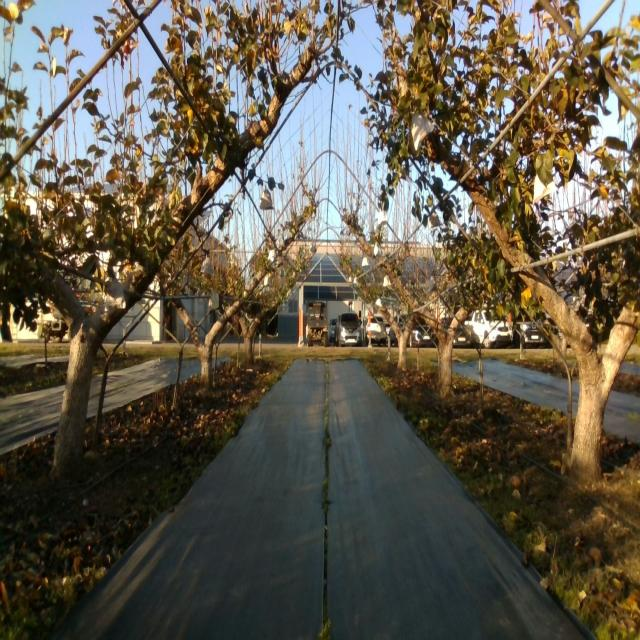pearbags: (412, 112, 434, 151), (532, 173, 558, 204), (106, 277, 126, 313), (260, 184, 274, 212), (200, 253, 216, 276)
